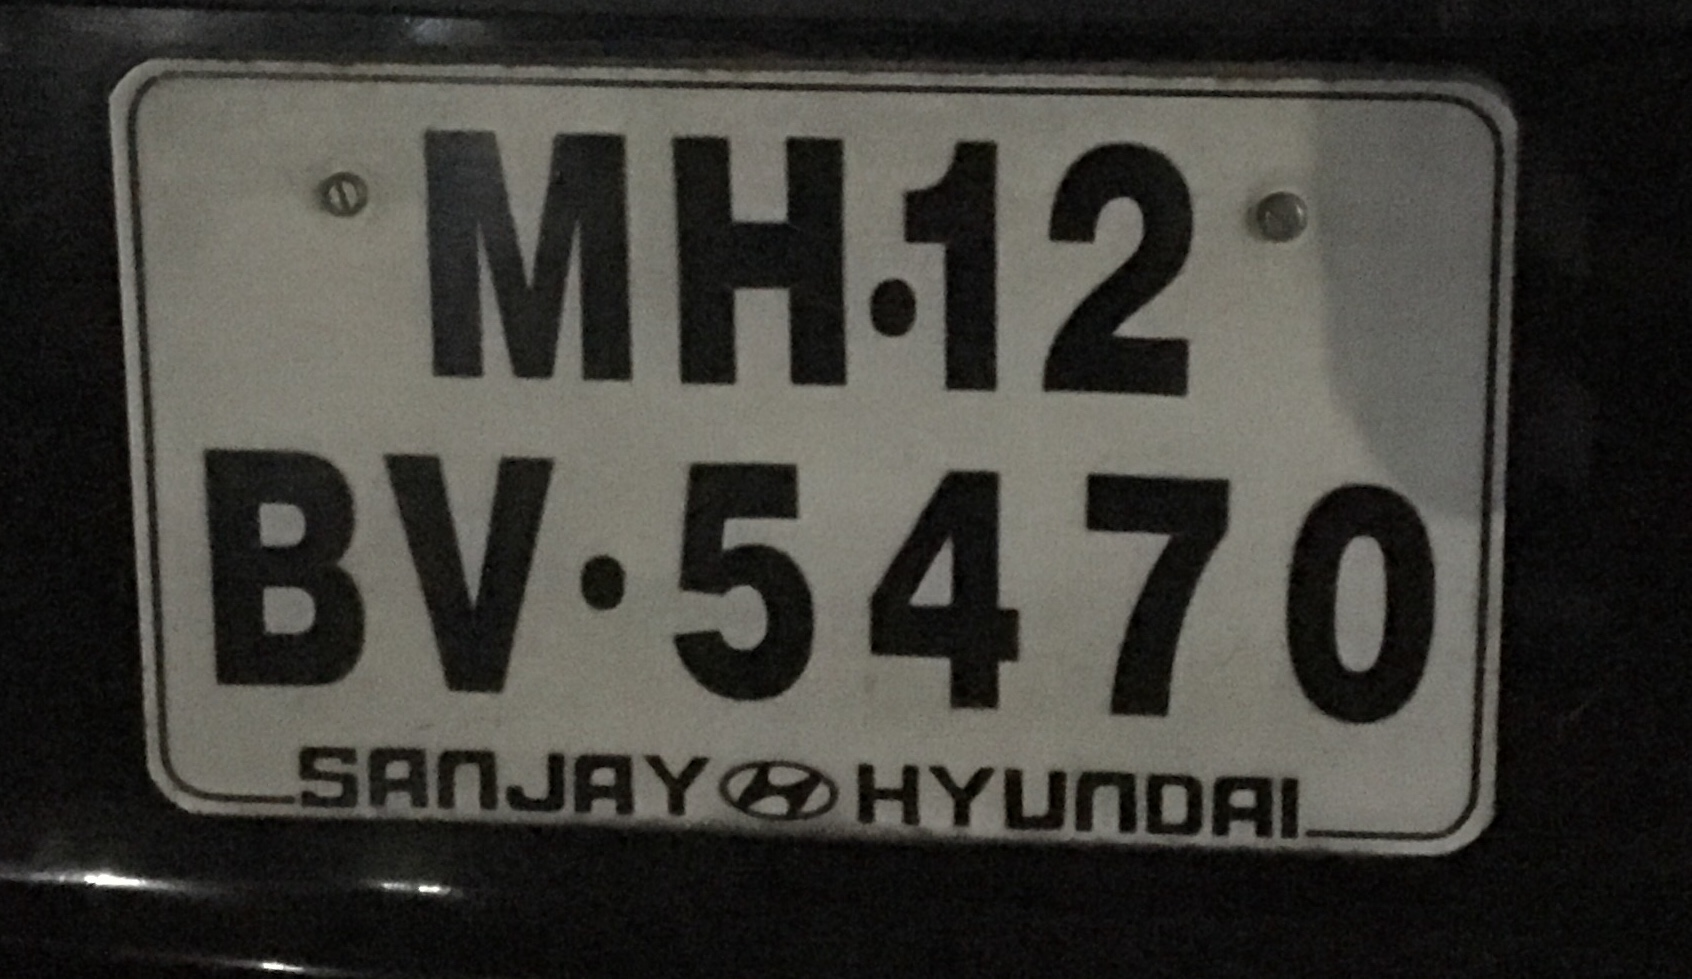doublelinenumberplate: (100, 53, 1512, 865)
